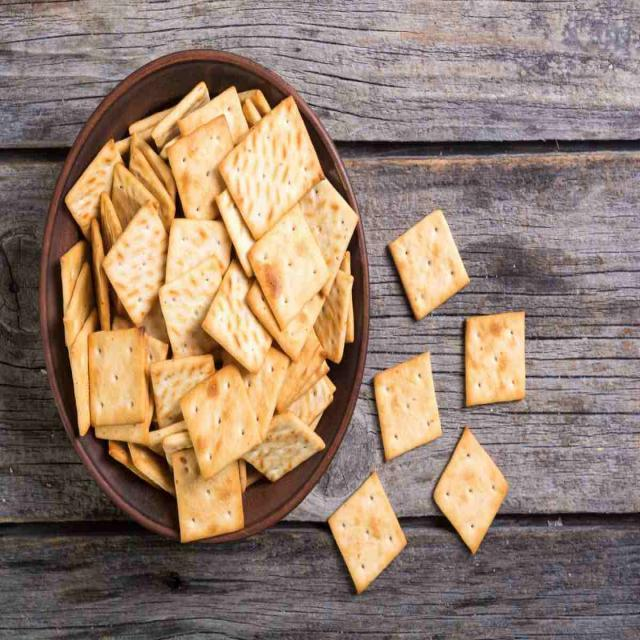Cracker: (222, 100, 328, 232), (326, 474, 412, 597), (246, 209, 332, 327), (433, 424, 511, 550), (389, 209, 477, 320), (177, 365, 262, 477), (452, 302, 534, 412), (78, 331, 161, 433), (369, 354, 442, 459)
